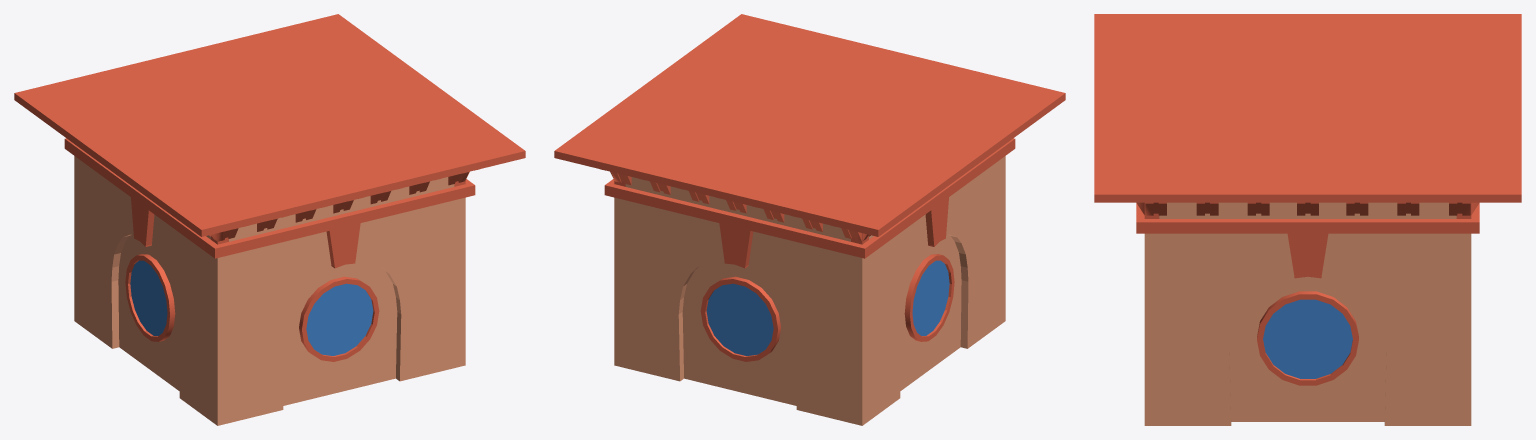
Rendered from TowerFloor4.fbx.
3 views of the same model, side by side, from view 1: azimuth 30°, elevation 25°; view 2: azimuth 150°, elevation 25°; view 3: azimuth 270°, elevation 25° (orthographic). The views are drawn at different scales.
Visible parts, largest first — view 1: TowerFloor4; view 2: TowerFloor4; view 3: TowerFloor4.
Boxes of the visible parts, x1,y1,x2,y2 form: TowerFloor4: (14, 14, 525, 425); TowerFloor4: (554, 14, 1065, 425); TowerFloor4: (1094, 14, 1521, 425).
Bounding box in the file's own units: 7.56 × 4.93 × 7.56.
